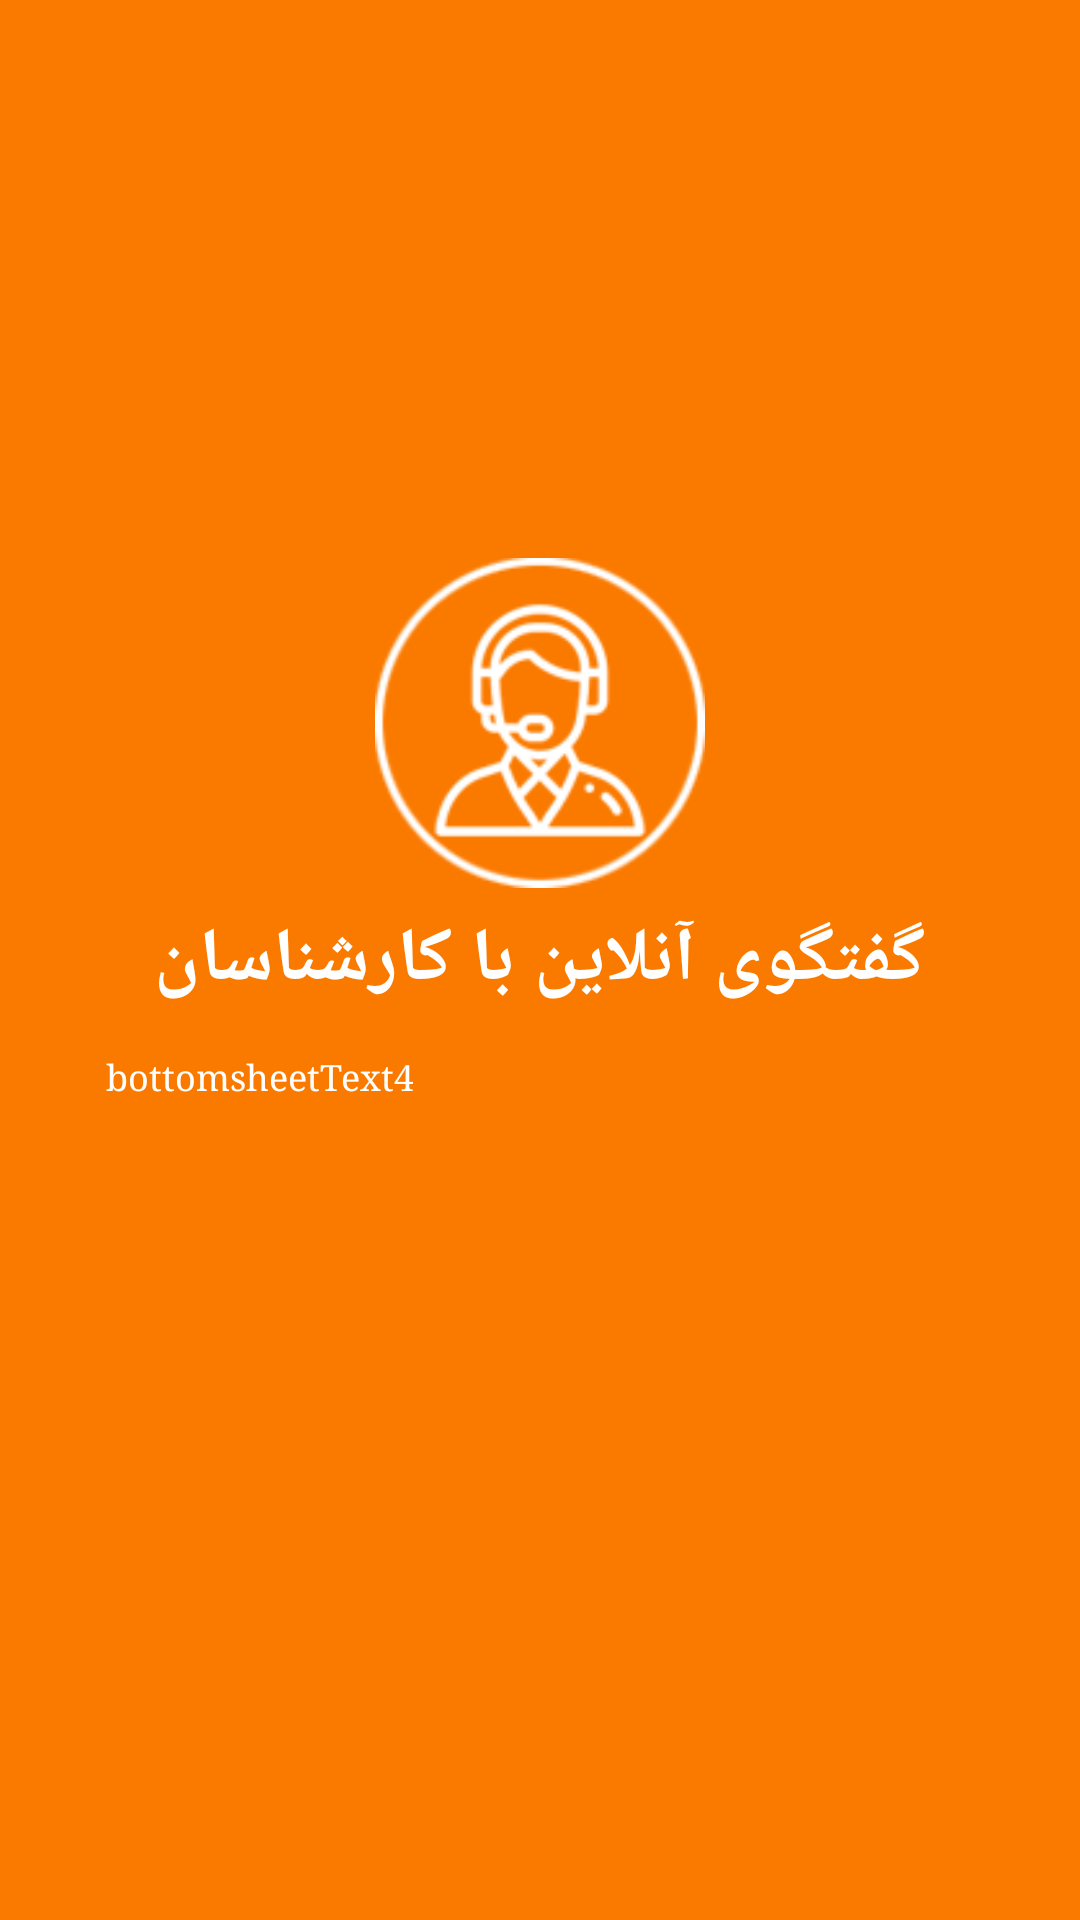

Icon bounding boxes for this 1080*1920 phone screenshot, format (x1, y1, x2, y2):
supporter: (375, 558, 705, 888)
